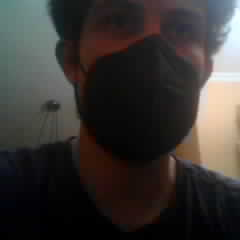with_mask: (79, 1, 204, 163)
